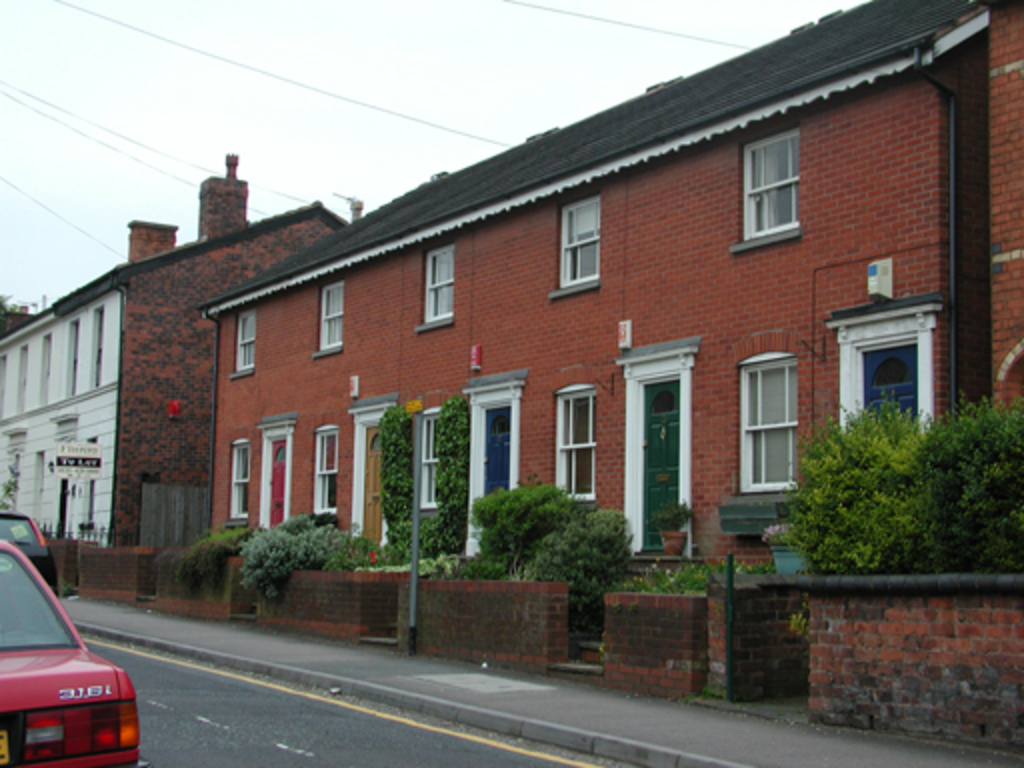Car: (0, 538, 140, 766), (0, 509, 53, 591)
